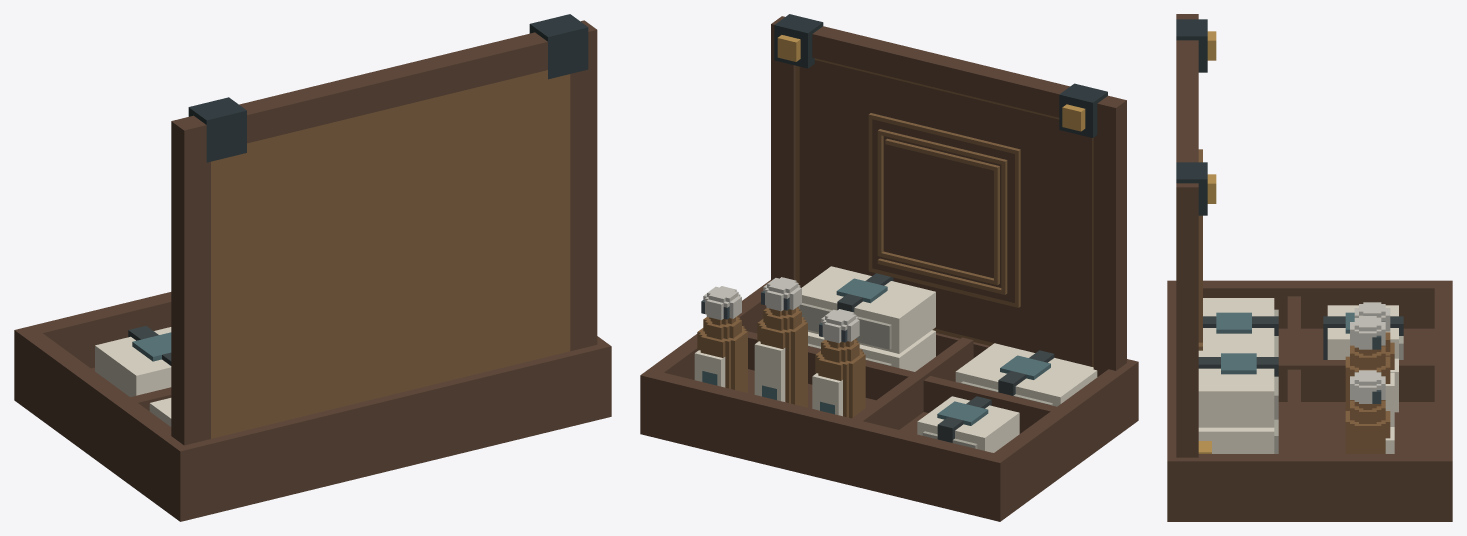
The model's file is LIFE-096.glb.
3 views of the same model, side by side, from view 1: azimuth 30°, elevation 25°; view 2: azimuth 150°, elevation 25°; view 3: azimuth 270°, elevation 25° (orthographic). The views are drawn at different scales.
Visible parts, largest first — view 1: 药材及药品包装; view 2: 药材及药品包装; view 3: 药材及药品包装.
Part boxes in pixels (x1=…): 药材及药品包装: x1=14, y1=14, x2=611, y2=521; 药材及药品包装: x1=640, y1=14, x2=1138, y2=521; 药材及药品包装: x1=1167, y1=14, x2=1452, y2=521.
Size of the model in its own units: 0.48 by 0.415 by 0.32.
11 materials, 11 textured.
